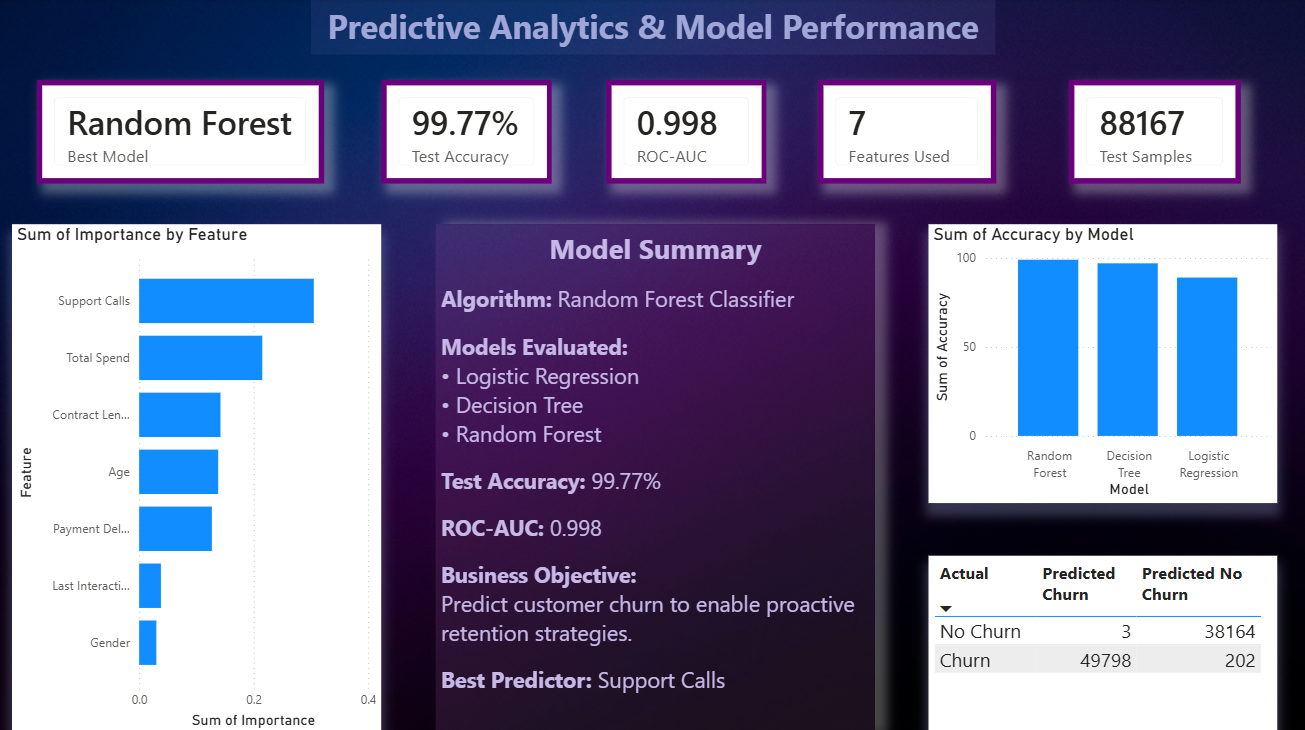

The page's visual inventory and layout, read from the dashboard file:
{"tool":"powerbi","page":{"name":"Page 4","canvas":[1280,720],"ordinal":3},"visuals":[{"type":"textbox","box":[305.7,0,670,55.7],"z":0},{"type":"cardVisual","fields":{"Data":["customer_churn.Best Model"]},"box":[37.1,80,281.4,101.4],"z":1000},{"type":"cardVisual","fields":{"Data":["customer_churn.Features Used"]},"box":[801.4,80,174.3,101.4],"z":2000},{"type":"cardVisual","fields":{"Data":["customer_churn.ROC-AUC"]},"box":[594.3,80,157.1,101.4],"z":3000},{"type":"cardVisual","fields":{"Data":["customer_churn.Test Accuracy"]},"box":[374.3,80,167.1,101.4],"z":4000},{"type":"cardVisual","fields":{"Data":["customer_churn.Test Samples"]},"box":[1047.1,80,168.6,101.4],"z":5000},{"type":"clusteredColumnChart","fields":{"Category":["Model Comparision.Model"],"Y":["Sum(Model Comparision.Accuracy)"]},"box":[910,221.4,341.4,272.9],"z":6000},{"type":"clusteredBarChart","fields":{"Category":["Feature Importance.Feature"],"Y":["Sum(Feature Importance.Importance)"]},"box":[12.9,221.4,361.4,498.6],"z":7000},{"type":"textbox","box":[427.1,221.4,430,498.6],"z":8000},{"type":"tableEx","title":"Confusion Matrix","fields":{"Values":["Confusion Matrix.Actual","Sum(Confusion Matrix.Churn)","Sum(Confusion Matrix.No Churn)"]},"box":[910,545.7,341.4,174.3],"z":9000}]}

Visuals, with their boxes in screenshot pixels (x1, y1, x2, y2), scaled from the page's 1280x720 canvas onto the 1305x730 screenshot:
textbox: bbox=(312, 0, 995, 56)
cardVisual - customer_churn.Best Model: bbox=(38, 81, 325, 184)
cardVisual - customer_churn.Features Used: bbox=(817, 81, 995, 184)
cardVisual - customer_churn.ROC-AUC: bbox=(606, 81, 766, 184)
cardVisual - customer_churn.Test Accuracy: bbox=(382, 81, 552, 184)
cardVisual - customer_churn.Test Samples: bbox=(1068, 81, 1239, 184)
clusteredColumnChart - Model Comparision.Model x Sum(Model Comparision.Accuracy): bbox=(928, 224, 1276, 501)
clusteredBarChart - Feature Importance.Feature x Sum(Feature Importance.Importance): bbox=(13, 224, 382, 729)
textbox: bbox=(435, 224, 874, 729)
"Confusion Matrix" tableEx: bbox=(928, 553, 1276, 729)
